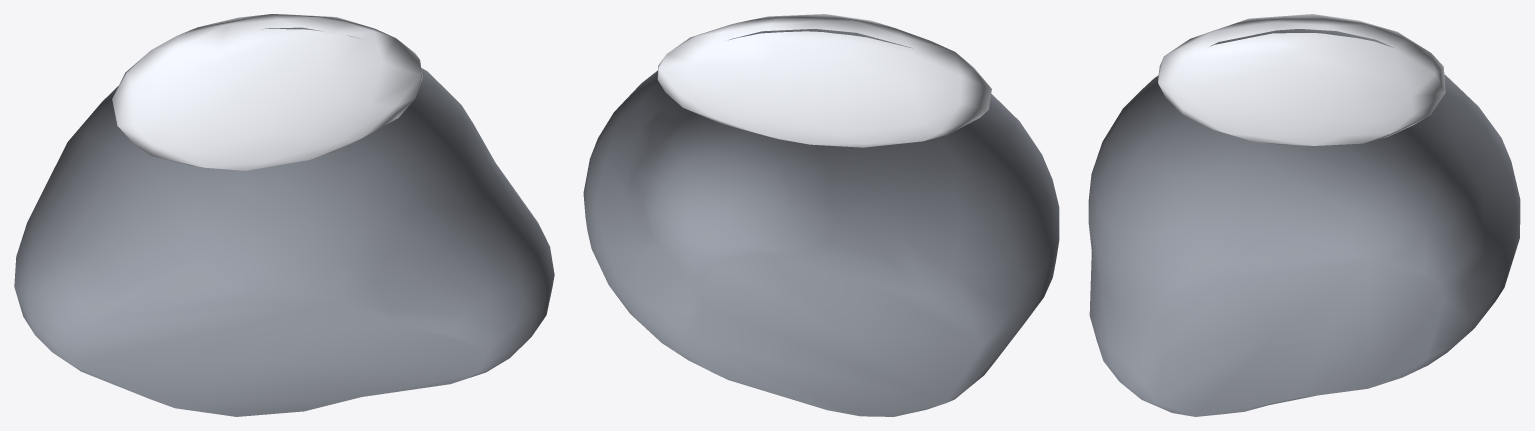
File: lm_snow_rock.glb
3 renders of one model, left to right at view 1: azimuth 30°, elevation 25°; view 2: azimuth 150°, elevation 25°; view 3: azimuth 270°, elevation 25°, orthographic. The views are drawn at different scales.
Visible parts, largest first — view 1: body; view 2: body; view 3: body.
Part boxes in pixels (bbox=[...]): body: bbox=[14, 14, 554, 416]; body: bbox=[583, 14, 1059, 416]; body: bbox=[1088, 14, 1520, 416].
Size of the model in its own units: 1.94 by 1.31 by 1.72.
Materials: 1 (1 with a texture image).
